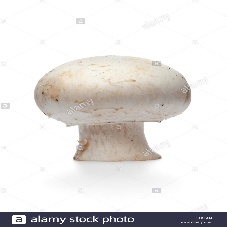mushroom: (32, 52, 196, 165)
